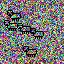sheep: (6, 9, 22, 22), (22, 45, 37, 58), (17, 22, 31, 35), (3, 20, 18, 32), (30, 27, 45, 39)
